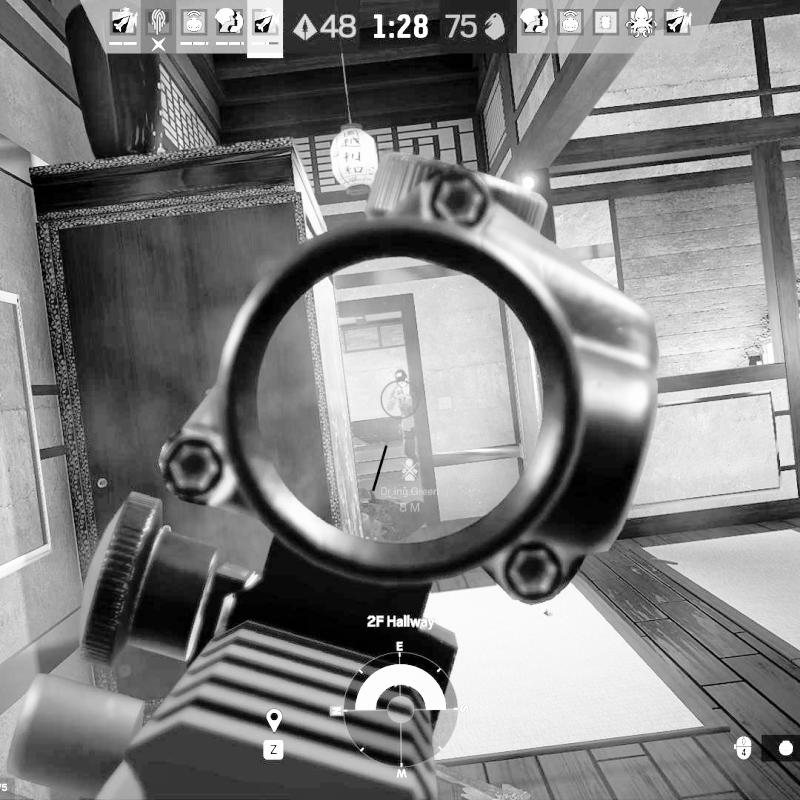Character: (386, 366, 419, 456)
Head: (394, 369, 408, 388)
